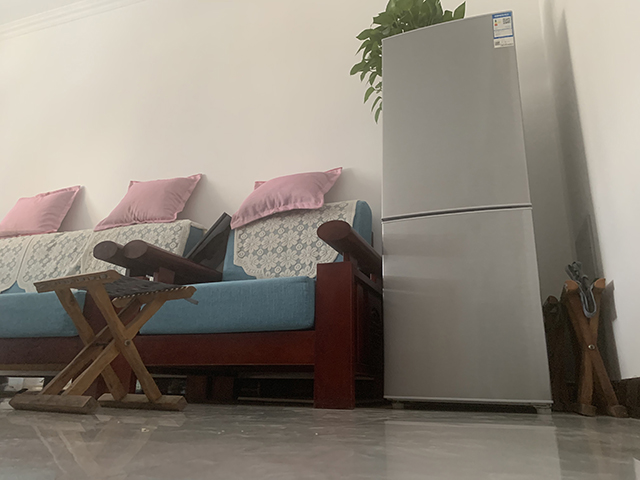sofa: (1, 165, 383, 411)
stool: (8, 269, 199, 416), (543, 260, 630, 419)
